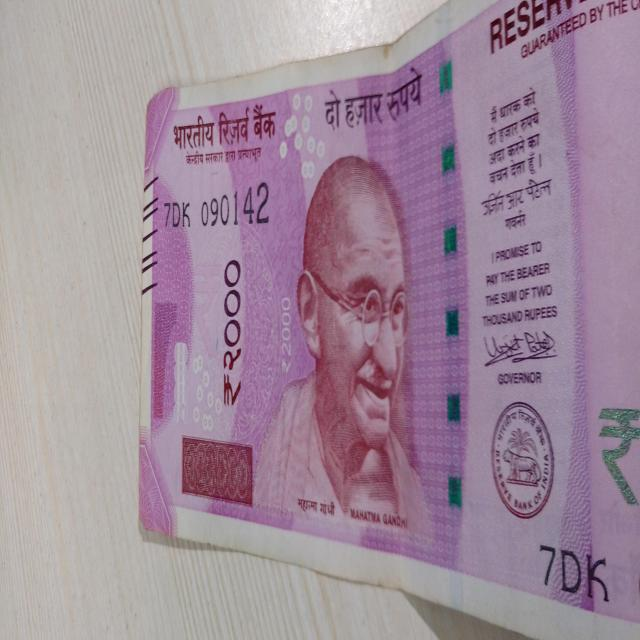Currency: (144, 75, 640, 550)
